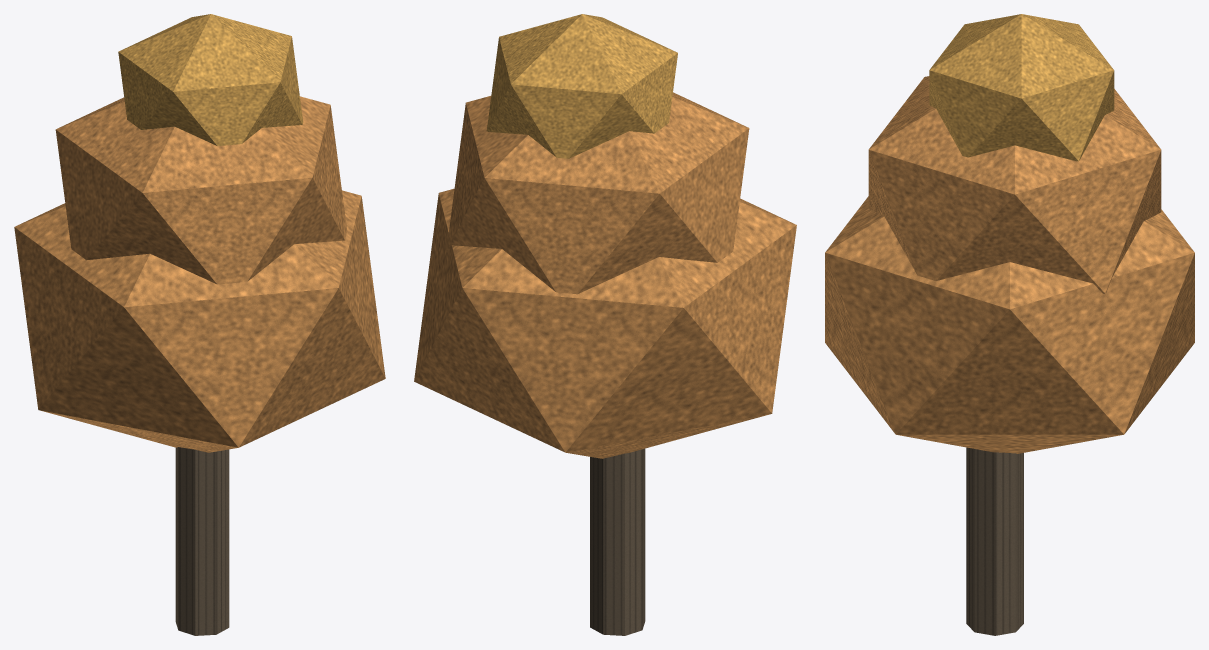
The model's file is tree_autumn.glb.
3 views of the same model, side by side, from view 1: azimuth 30°, elevation 25°; view 2: azimuth 150°, elevation 25°; view 3: azimuth 270°, elevation 25° (orthographic). The views are drawn at different scales.
Visible parts, largest first — view 1: leaf_340, leaf_341, leaf_342, tree_trunk-col_339; view 2: leaf_340, leaf_341, leaf_342, tree_trunk-col_339; view 3: leaf_340, leaf_341, leaf_342, tree_trunk-col_339.
Part boxes in pixels (left/top/right/bottom): leaf_340: left=14, top=190, right=385, bottom=452; leaf_341: left=55, top=96, right=347, bottom=284; leaf_342: left=118, top=14, right=303, bottom=146; tree_trunk-col_339: left=175, top=447, right=229, bottom=635; leaf_340: left=414, top=188, right=796, bottom=458; leaf_341: left=446, top=92, right=749, bottom=294; leaf_342: left=486, top=14, right=677, bottom=158; tree_trunk-col_339: left=590, top=448, right=645, bottom=635; leaf_340: left=825, top=196, right=1194, bottom=453; leaf_341: left=868, top=76, right=1161, bottom=293; leaf_342: left=929, top=14, right=1114, bottom=161; tree_trunk-col_339: left=966, top=447, right=1023, bottom=635.
Size of the model in its own units: 2.15 by 3.78 by 2.04.
3 materials, 3 textured.
